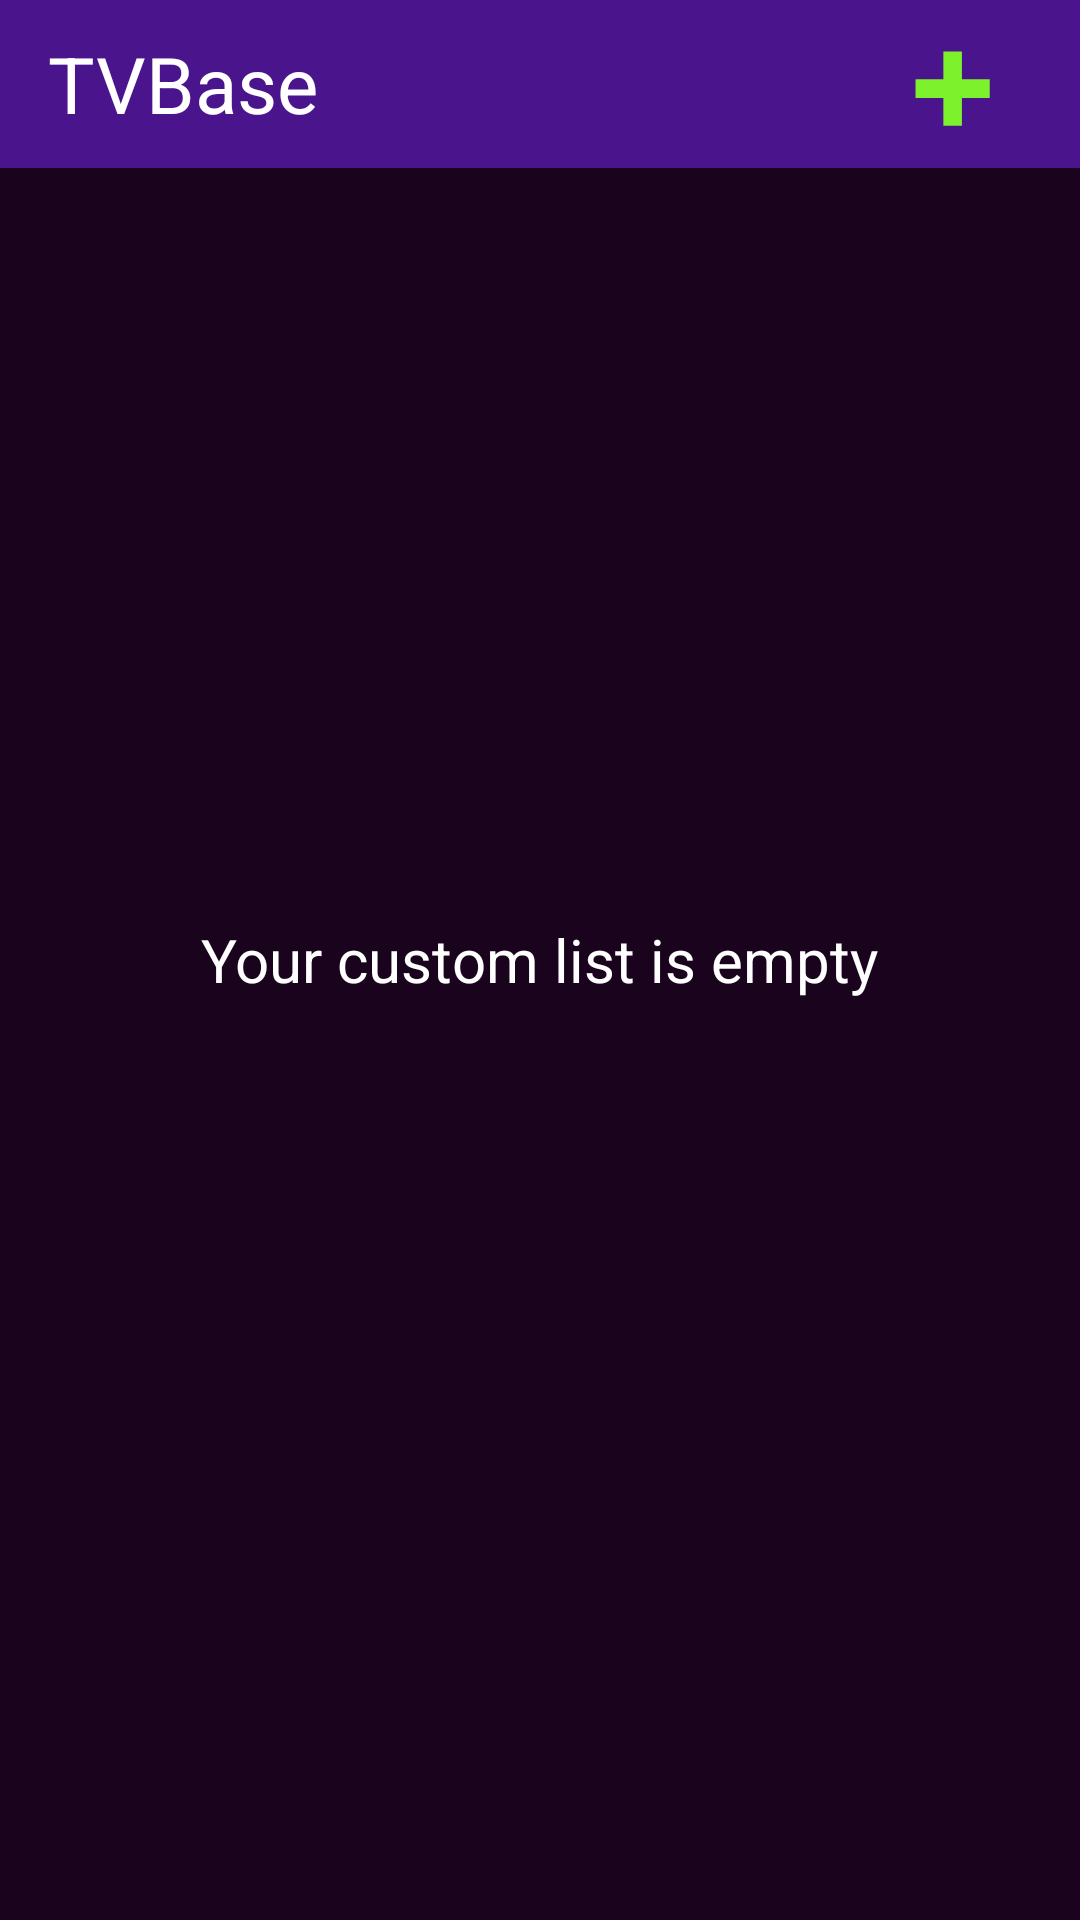

Where to tap for icons on this 1080 × 1920 app screen, as point (x, y):
plus: point (952, 88)
